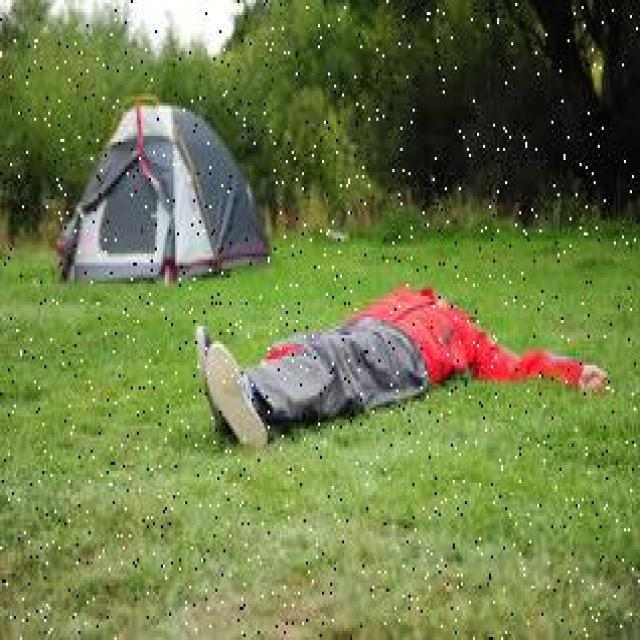fall: (219, 277, 582, 428)
